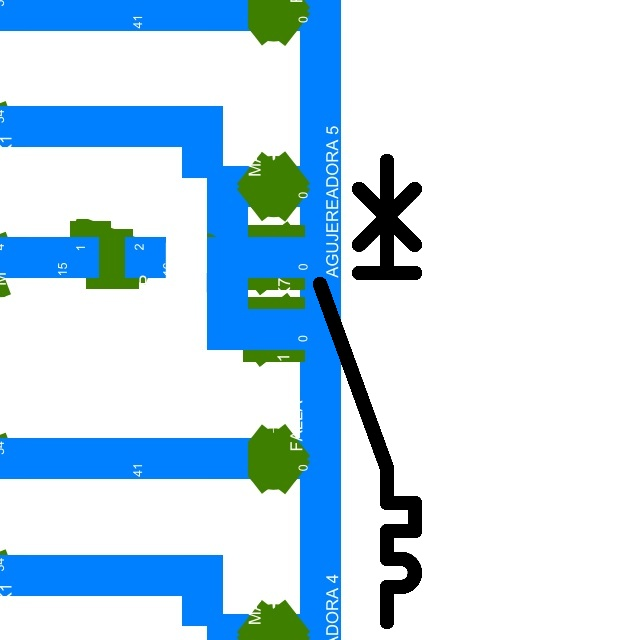interruptor_termomagnetico: (308, 149, 427, 634)
